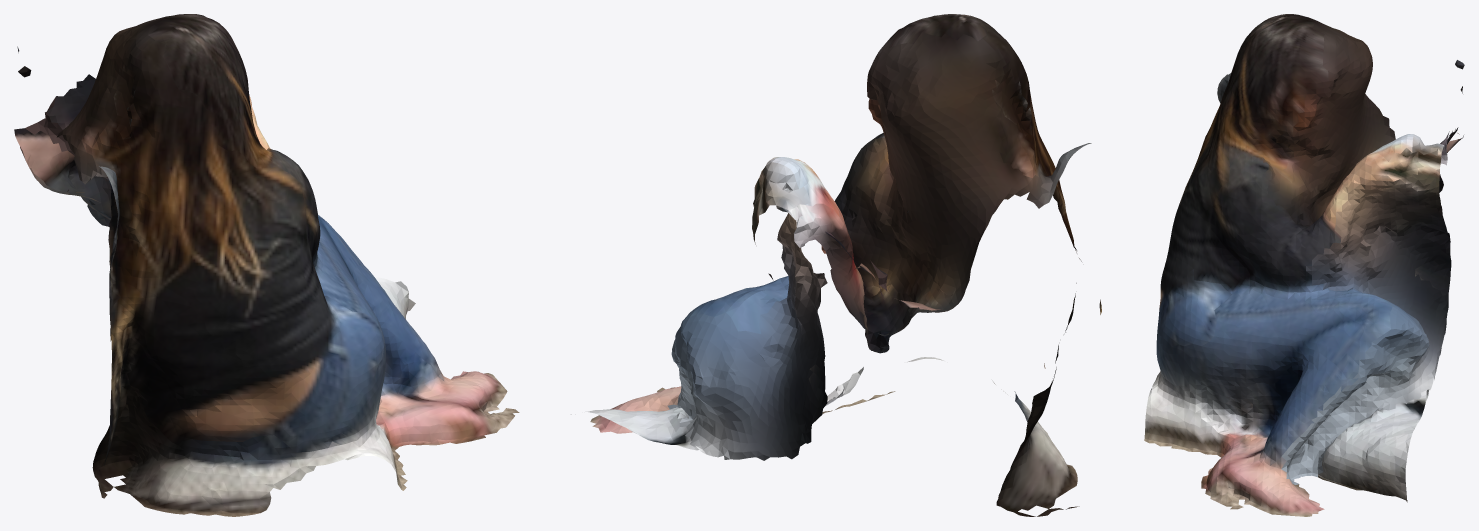
The picture shows the model from 3 angles, left to right: view 1: azimuth 30°, elevation 25°; view 2: azimuth 150°, elevation 25°; view 3: azimuth 270°, elevation 25°; orthographic projection. The views are drawn at different scales.
Size of the model in its own units: 0.8013 by 0.7817 by 0.6205.
Materials: 1 (1 with a texture image).
